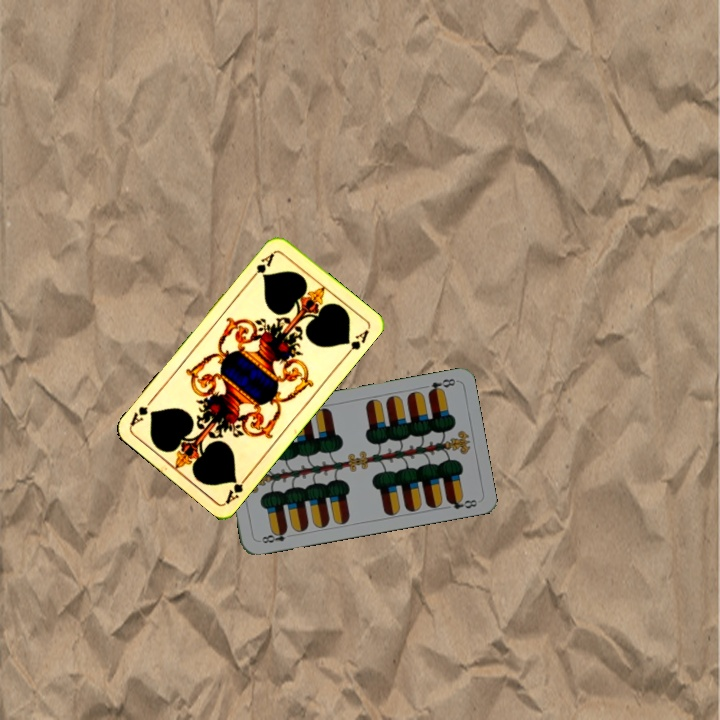E8: (255, 525, 295, 546), (424, 374, 458, 397)
GA: (222, 470, 252, 506), (247, 248, 277, 282)
